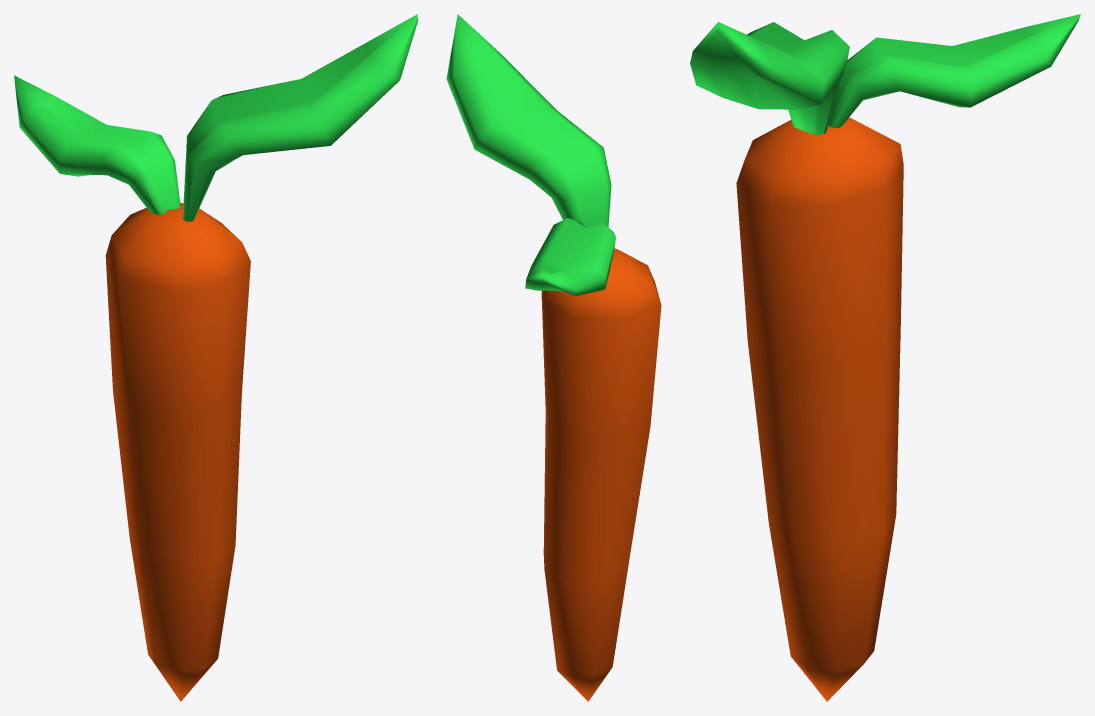
The model's file is Carrot3.fbx.
3 views of the same model, side by side, from view 1: azimuth 30°, elevation 25°; view 2: azimuth 150°, elevation 25°; view 3: azimuth 270°, elevation 25° (orthographic). The views are drawn at different scales.
Visible parts, largest first — view 1: Cube.002; view 2: Cube.002; view 3: Cube.002.
Boxes of the visible parts, left/top/right/bottom form: Cube.002: left=14, top=14, right=417, bottom=701; Cube.002: left=446, top=14, right=661, bottom=701; Cube.002: left=690, top=14, right=1080, bottom=701.
Bounding box in the file's own units: 9.51 × 23.27 × 10.46.
